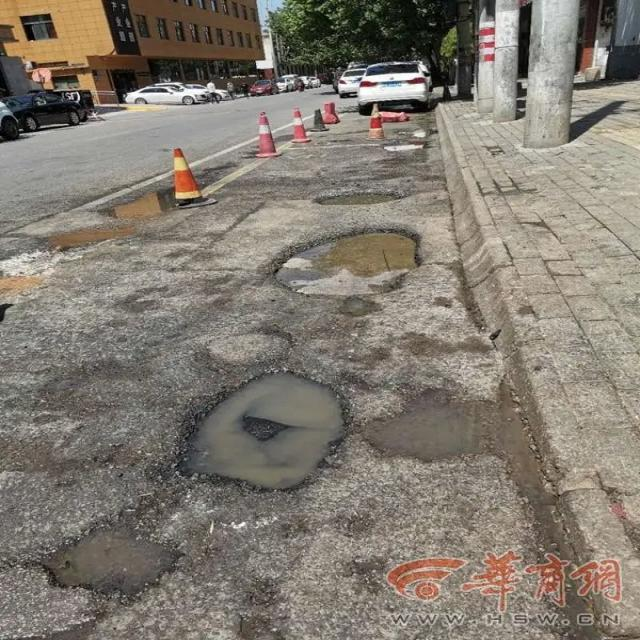Pothole: (186, 366, 344, 498), (360, 387, 529, 466), (41, 520, 186, 602), (267, 224, 417, 302), (207, 326, 289, 362), (298, 184, 410, 210), (110, 193, 188, 228), (53, 227, 144, 254), (381, 137, 433, 151)
